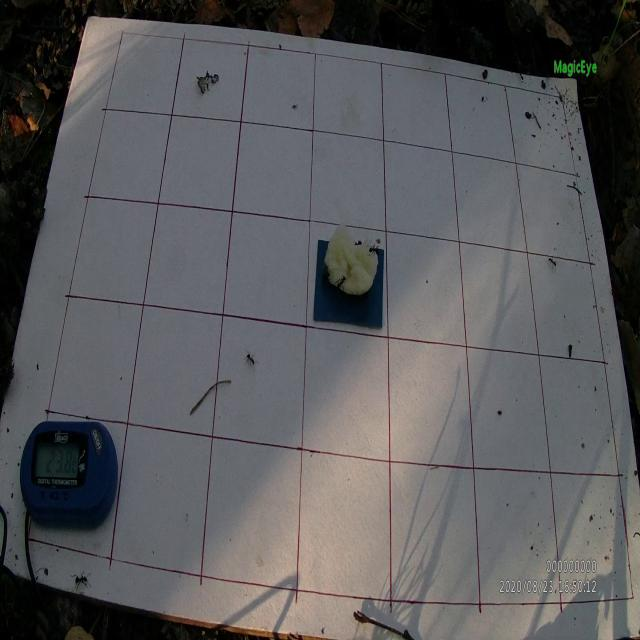Ant: (70, 570, 92, 594), (245, 349, 258, 372), (335, 274, 347, 293), (366, 243, 380, 258), (548, 256, 557, 271)
